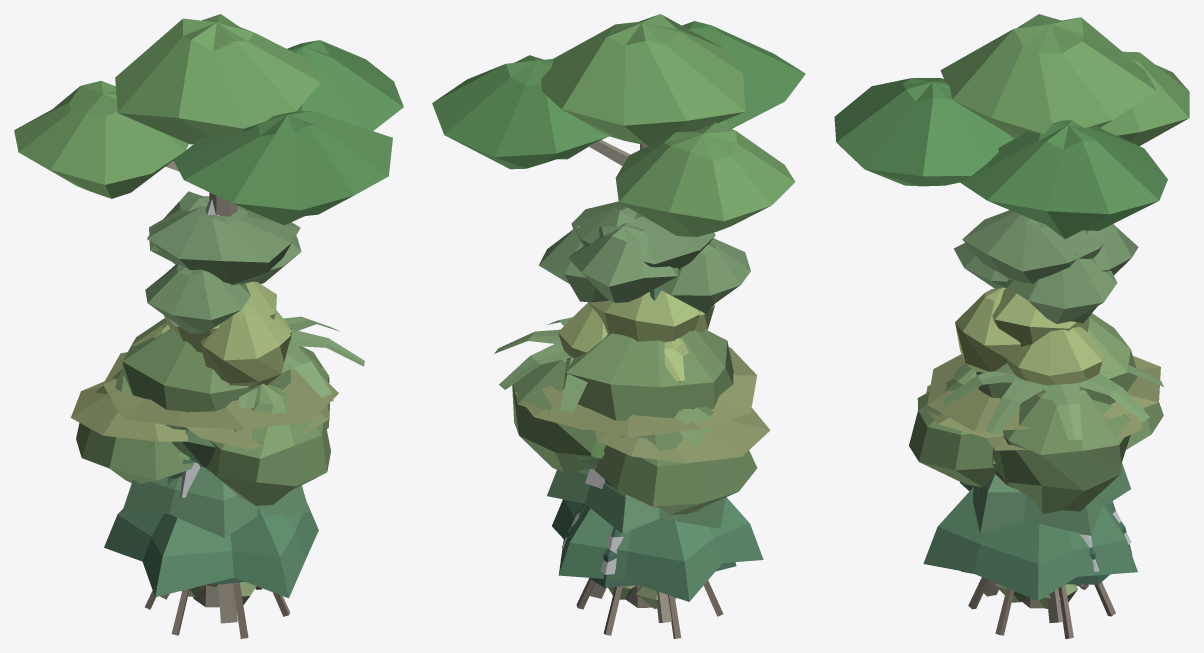
File: world_trees.glb
3 renders of one model, left to right at view 1: azimuth 30°, elevation 25°; view 2: azimuth 150°, elevation 25°; view 3: azimuth 270°, elevation 25°, orthographic.
Parts seen in each view (by area): view 1: Urwaldbaum, Eiche, Fichte, Kiefer, Akazie, Birke, Palme, Mangrove, Schneetanne; view 2: Urwaldbaum, Eiche, Fichte, Kiefer, Akazie, Birke, Palme, Mangrove, Schneetanne; view 3: Urwaldbaum, Eiche, Fichte, Kiefer, Birke, Akazie, Palme, Mangrove, Schneetanne.
Boxes of the visible parts, box(x1,y1,x2,y2) form: Urwaldbaum: box(14, 14, 403, 623); Eiche: box(76, 318, 330, 505); Fichte: box(104, 459, 318, 598); Kiefer: box(145, 191, 301, 333); Akazie: box(71, 352, 338, 449); Birke: box(132, 281, 291, 388); Palme: box(239, 316, 364, 407); Mangrove: box(145, 430, 289, 638); Schneetanne: box(167, 199, 244, 584); Urwaldbaum: box(432, 14, 805, 622); Eiche: box(512, 329, 757, 514); Fichte: box(547, 288, 763, 601); Kiefer: box(539, 201, 750, 313); Akazie: box(515, 347, 770, 463); Birke: box(558, 290, 714, 382); Palme: box(494, 317, 587, 411); Mangrove: box(573, 458, 723, 638); Schneetanne: box(560, 468, 736, 587); Urwaldbaum: box(834, 14, 1189, 623); Eiche: box(909, 313, 1163, 514); Fichte: box(923, 463, 1137, 600); Kiefer: box(953, 210, 1138, 323); Birke: box(955, 287, 1103, 395); Akazie: box(926, 354, 1160, 450); Palme: box(942, 364, 1163, 440); Mangrove: box(968, 471, 1115, 638); Schneetanne: box(961, 486, 1132, 584).
Size of the model in its own units: 9.03 by 14.79 by 8.06.
